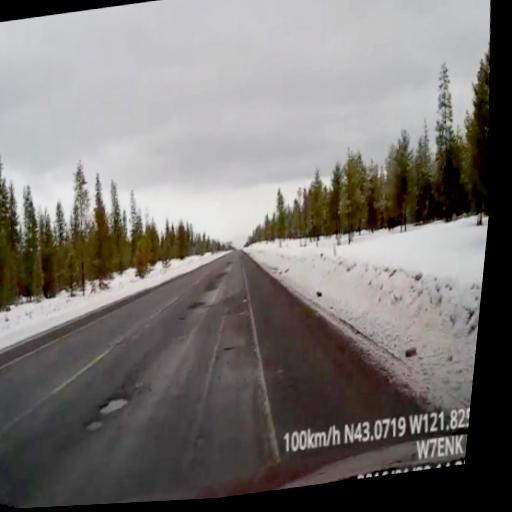pothole: (62, 203, 190, 512), (49, 210, 142, 512)
